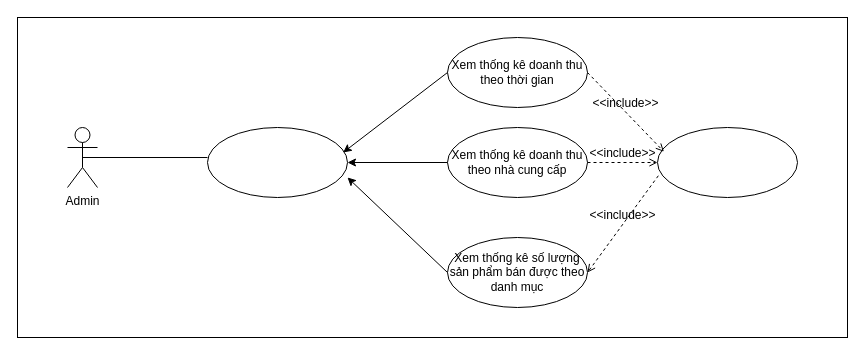
Some shapes in this 865 by 355 pixel diagram are drawn without their labels. Here are the shapes that lost their labels. From the top down, the box of each, then its label:
(206, 126, 348, 198): Thống kê
(656, 126, 798, 198): Đăng nhập
